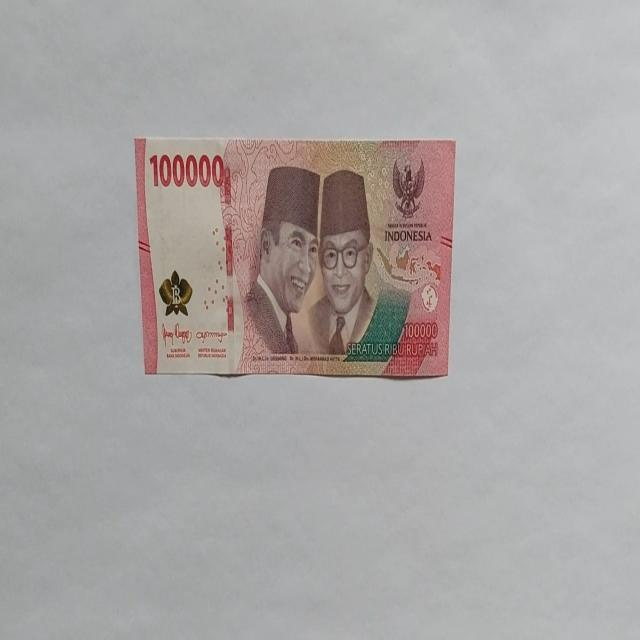seratus ribu rupiah: (134, 135, 456, 380), (242, 164, 321, 361)
